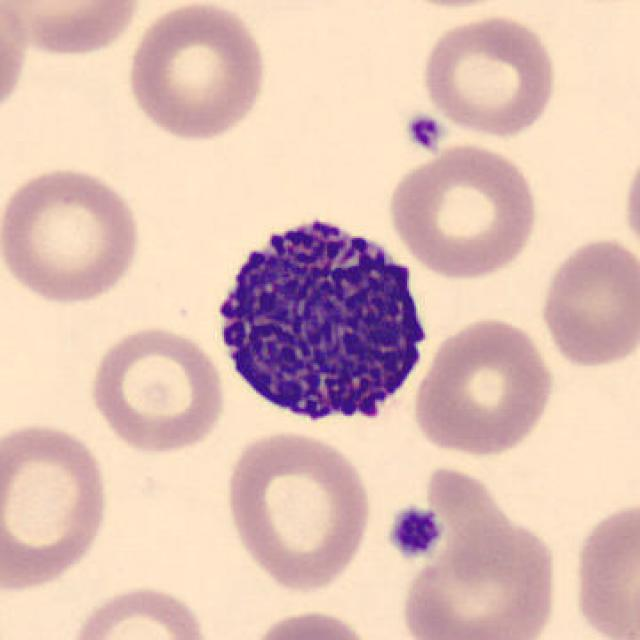Basophil: (203, 199, 439, 437)
Platelets: (384, 503, 444, 564), (400, 109, 446, 155)
RBC: (221, 425, 375, 594), (384, 141, 542, 282), (409, 312, 558, 460), (121, 0, 272, 145), (0, 160, 148, 307), (396, 516, 563, 640), (0, 416, 114, 594), (84, 322, 228, 457), (416, 11, 562, 141), (535, 233, 638, 370), (423, 469, 521, 582), (567, 493, 640, 640), (64, 582, 215, 640), (2, 0, 146, 58), (243, 606, 380, 640), (0, 0, 32, 125), (618, 135, 640, 266), (378, 0, 526, 12)
